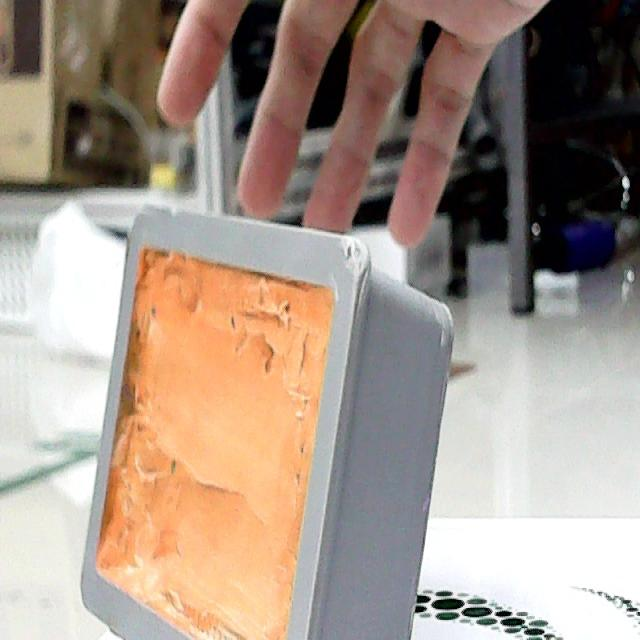block: (82, 204, 449, 640)
